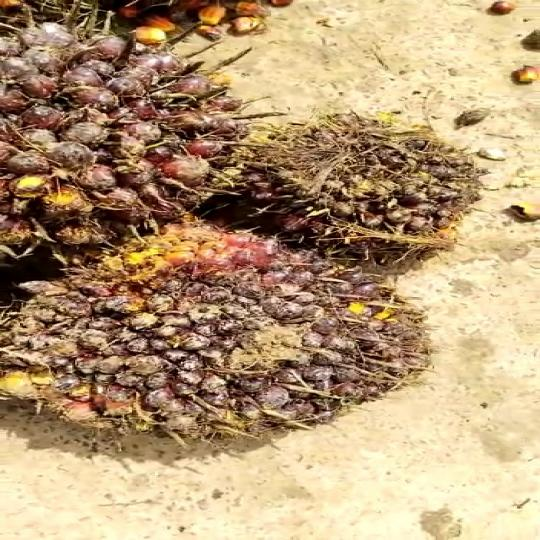kurang masak: (5, 237, 439, 454), (0, 11, 244, 272), (228, 110, 490, 272)
